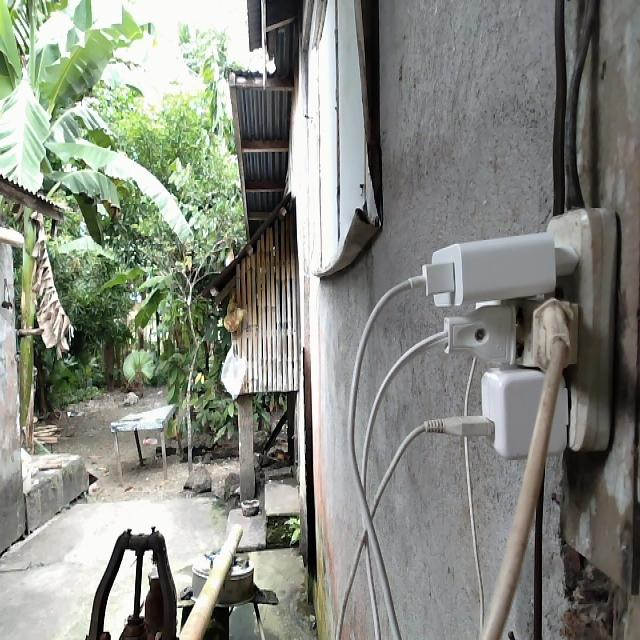-: (420, 200, 618, 461)
